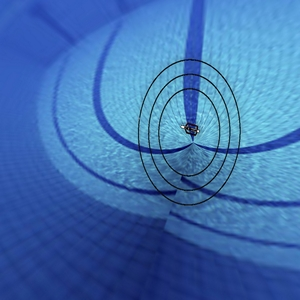circle: (138, 47, 245, 216)
submarine: (174, 110, 209, 151)
